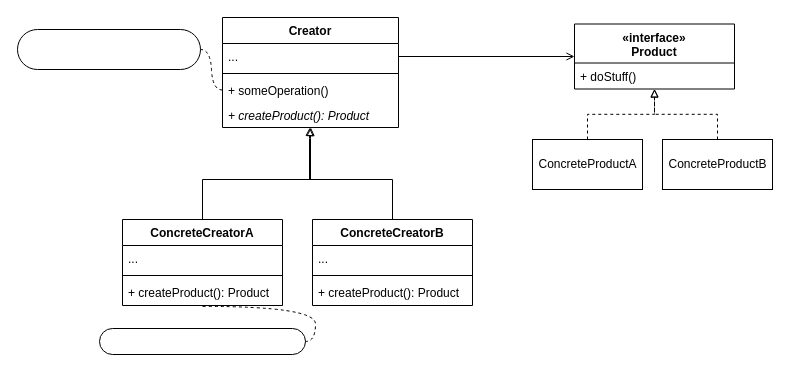
Some shapes in this 790 by 372 pixel diagram are drawn without their labels. Each missing label, with the centre of its shape:
Product p = createProduct() p.doStuff(): pixel 108 49
Return new ConcreteProductA(): pixel 202 341
